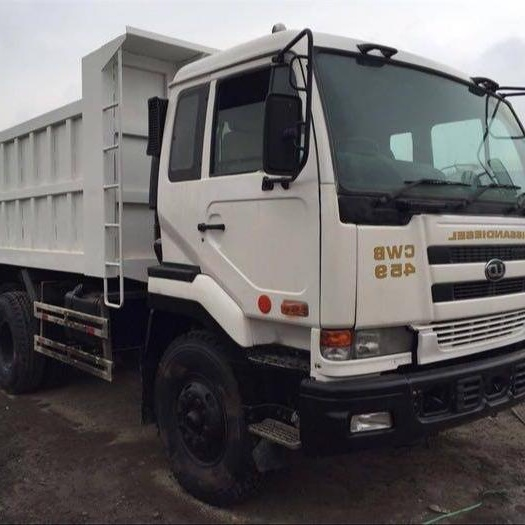truck: (0, 20, 525, 509)
